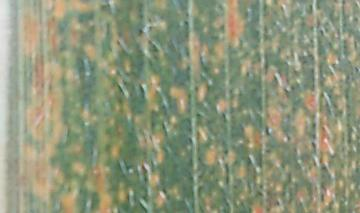tarspot: (263, 124, 271, 136), (310, 140, 317, 150), (256, 190, 264, 198), (320, 164, 328, 172), (274, 199, 281, 208), (137, 28, 144, 36), (310, 121, 317, 129), (353, 65, 360, 73), (258, 183, 265, 190), (223, 147, 229, 155), (183, 19, 189, 26), (311, 132, 317, 139), (195, 112, 201, 119)
